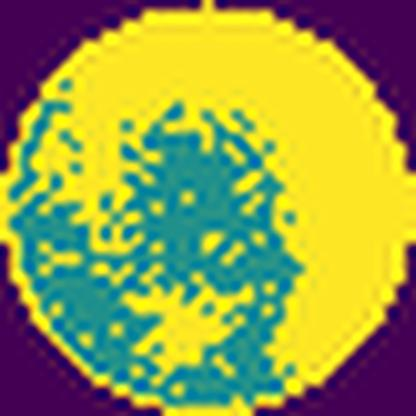Edge-Loc: (34, 0, 415, 390)
